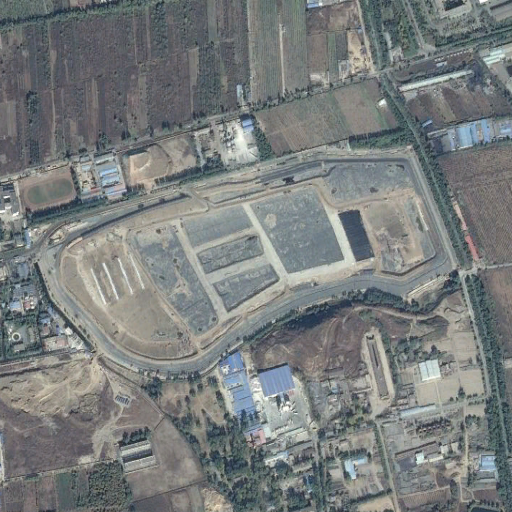lf: (41, 150, 451, 376)
